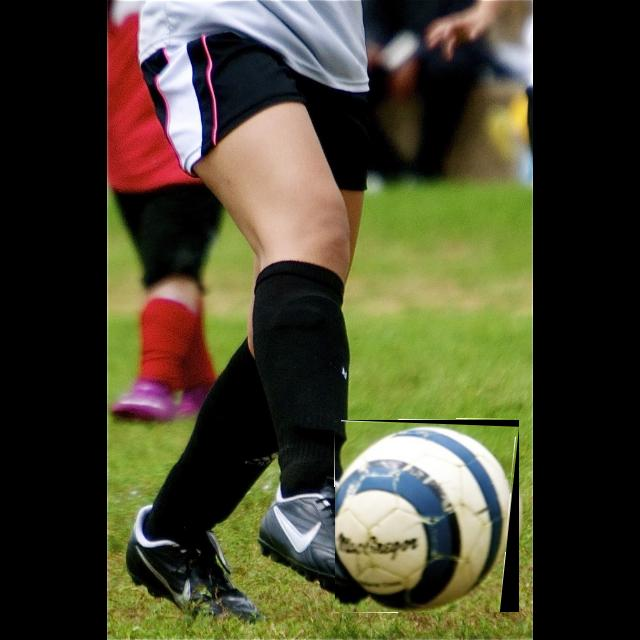Football: (335, 420, 519, 612)
